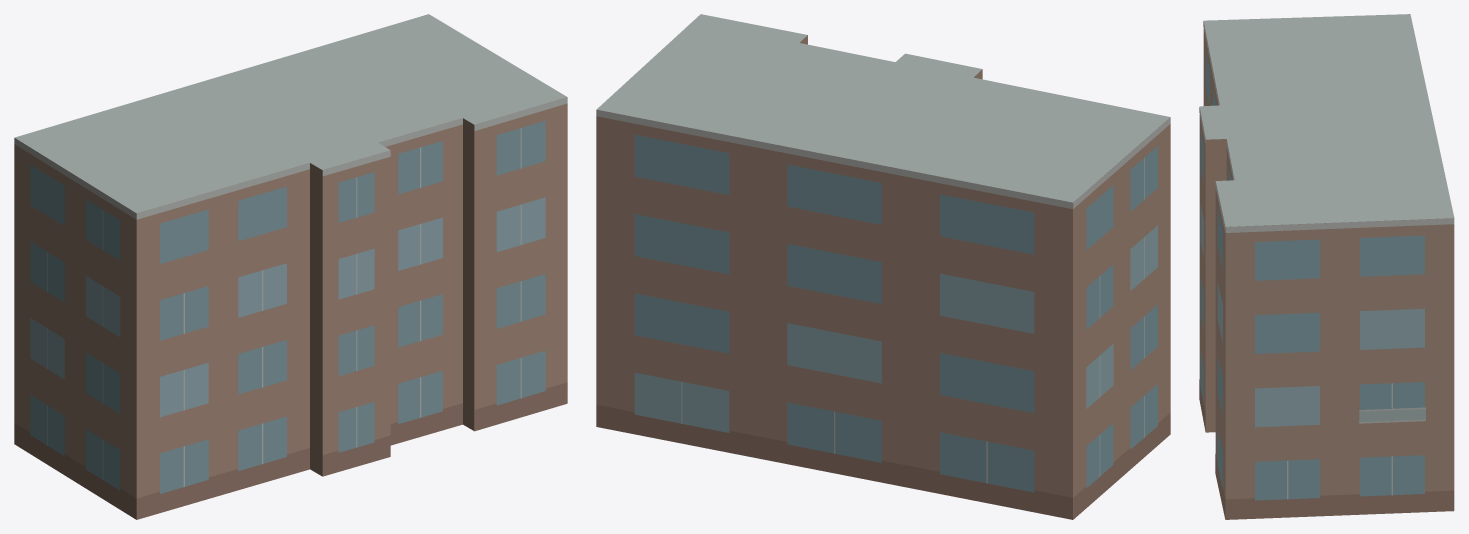
The model's file is survey-upis-32755819.glb.
3 views of the same model, side by side, from view 1: azimuth 30°, elevation 25°; view 2: azimuth 150°, elevation 25°; view 3: azimuth 270°, elevation 25° (orthographic). The views are drawn at different scales.
Visible parts, largest first — view 1: survey-upis-32755819.tmp; view 2: survey-upis-32755819.tmp; view 3: survey-upis-32755819.tmp.
Part boxes in pixels (x1=…): survey-upis-32755819.tmp: x1=14, y1=14, x2=567, y2=519; survey-upis-32755819.tmp: x1=596, y1=14, x2=1170, y2=519; survey-upis-32755819.tmp: x1=1199, y1=14, x2=1454, y2=519.
Size of the model in its own units: 18.25 by 11.7 by 9.24.
